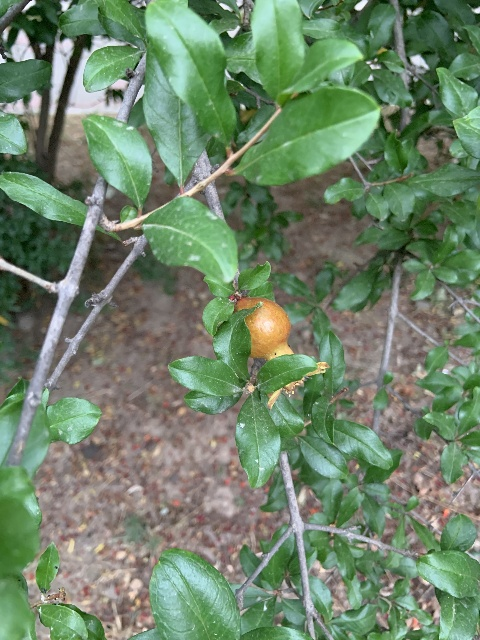early-fruit: (233, 296, 329, 409)
